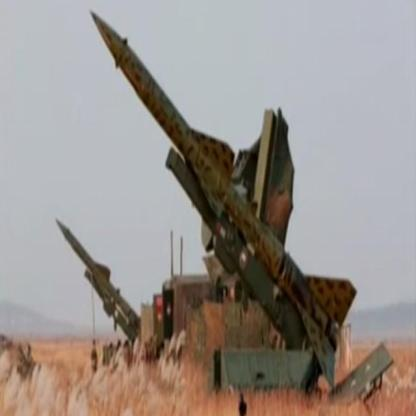MIL_TBM: (54, 215, 145, 341)
